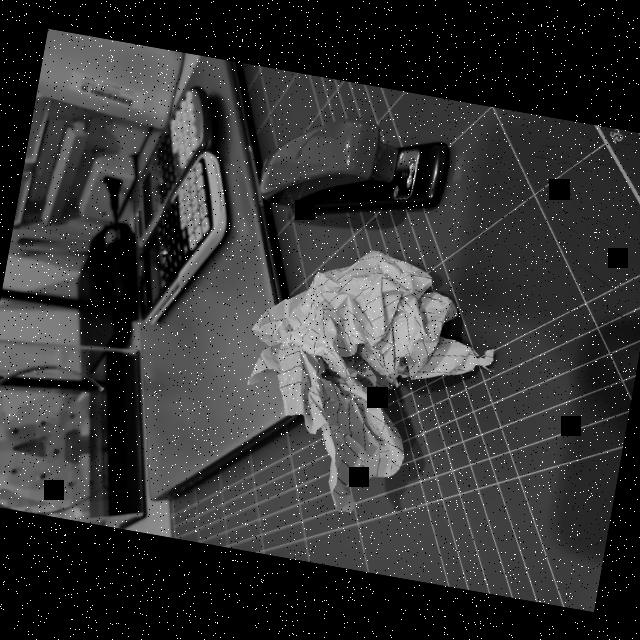scrap_paper: (219, 235, 505, 502)
